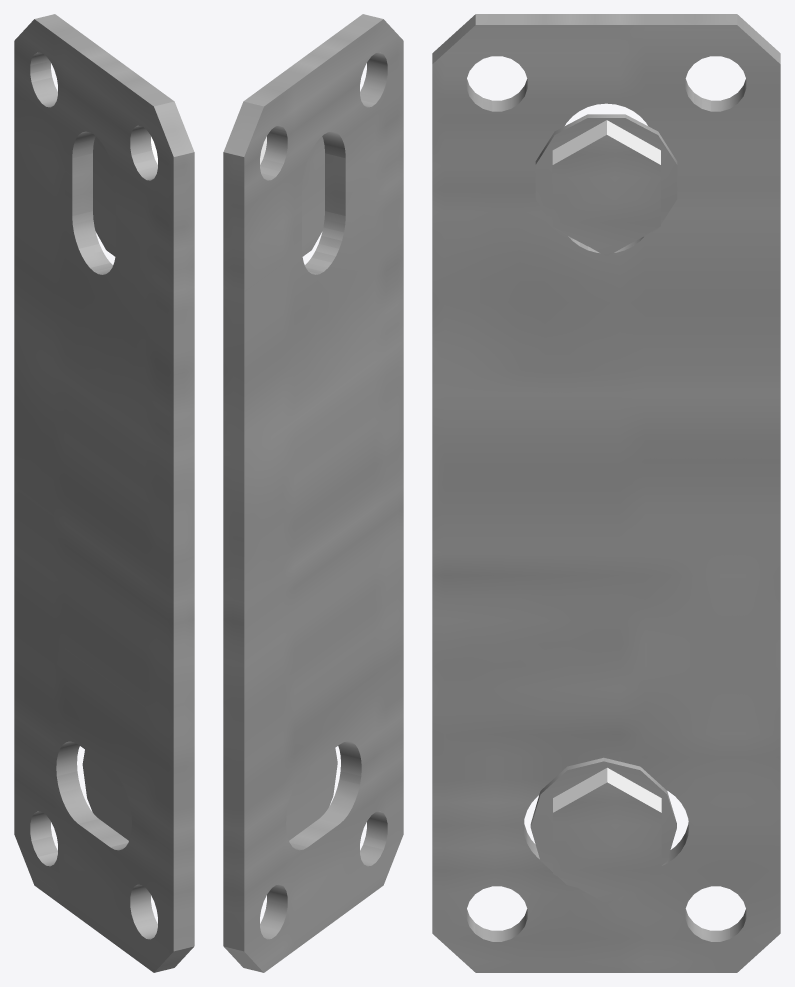
The picture shows the model from 3 angles, left to right: view 1: azimuth 30°, elevation 25°; view 2: azimuth 150°, elevation 25°; view 3: azimuth 270°, elevation 25°; orthographic projection. The views are drawn at different scales.
Parts seen in each view (by area): view 1: 28_30_S_LOWPOLYZ; view 2: 28_30_S_LOWPOLYZ; view 3: 28_30_S_LOWPOLYZ.
Boxes of the visible parts, x1,y1,x2,y2 form: 28_30_S_LOWPOLYZ: (14,14,194,972); 28_30_S_LOWPOLYZ: (223,14,403,972); 28_30_S_LOWPOLYZ: (432,14,780,972).
Bounding box in the file's own units: 8.26 × 120 × 40.
Materials: 2 (1 with a texture image).
